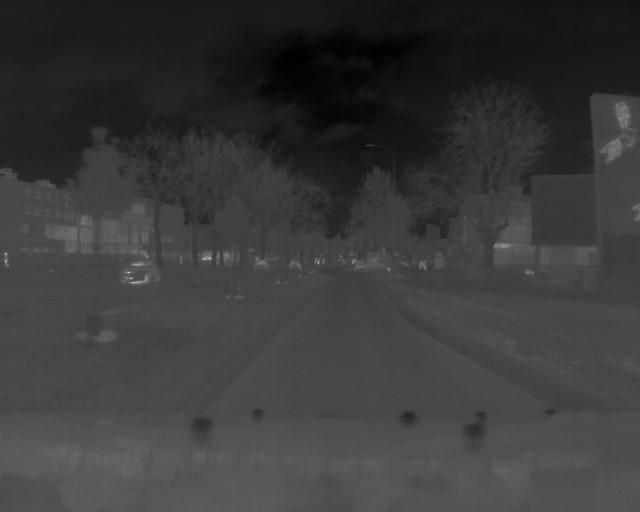car: (117, 260, 165, 288)
person: (2, 248, 13, 270)
